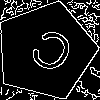C: (20, 26, 78, 84)
